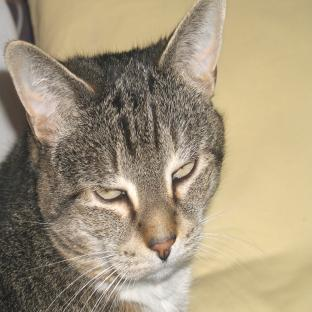Animal: (0, 0, 226, 312)
